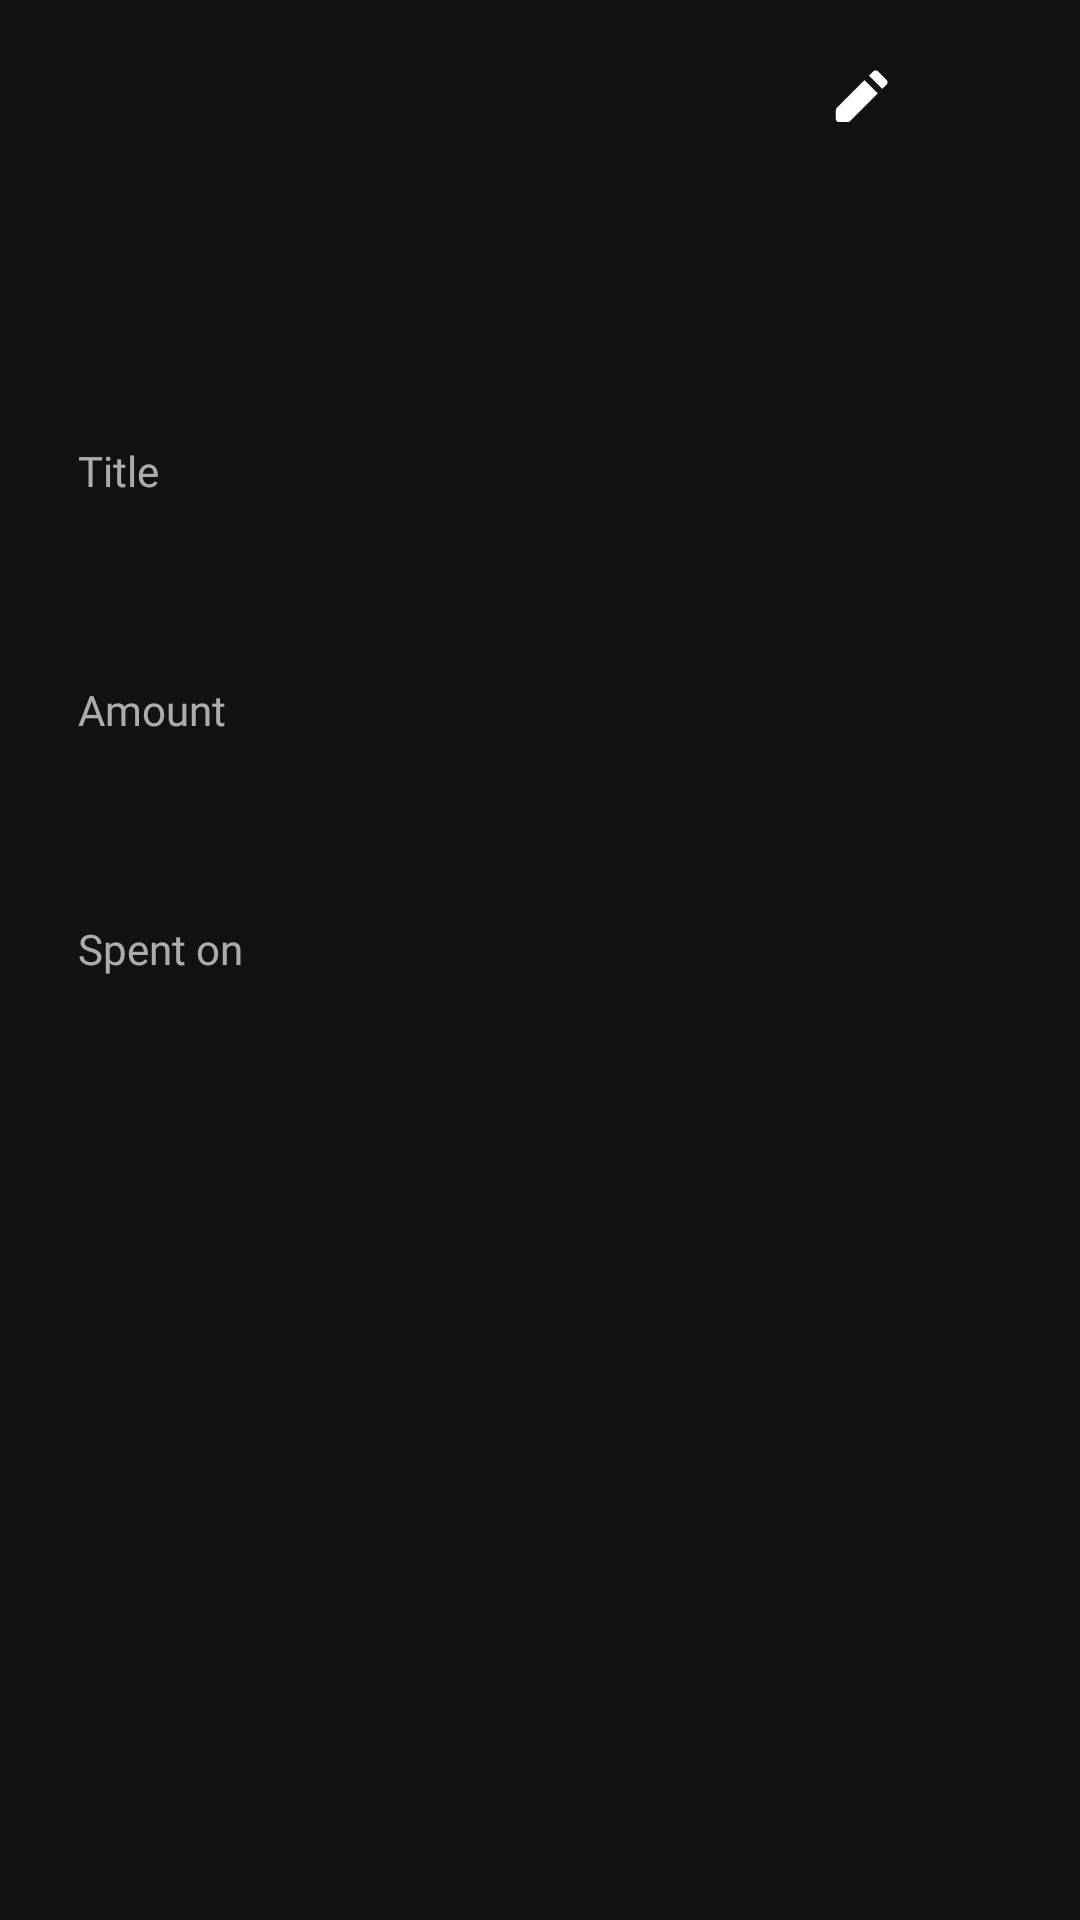

Icon bounding boxes for this 1080px x 1920px phone screenshot, format Rect(x1, y1, x2, y2):
edit: Rect(835, 70, 888, 122)
